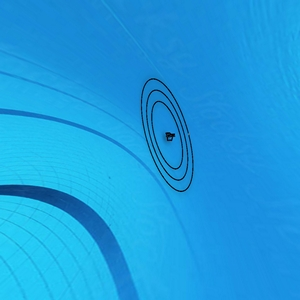circle: (138, 77, 206, 193)
submarine: (165, 133, 177, 142)
